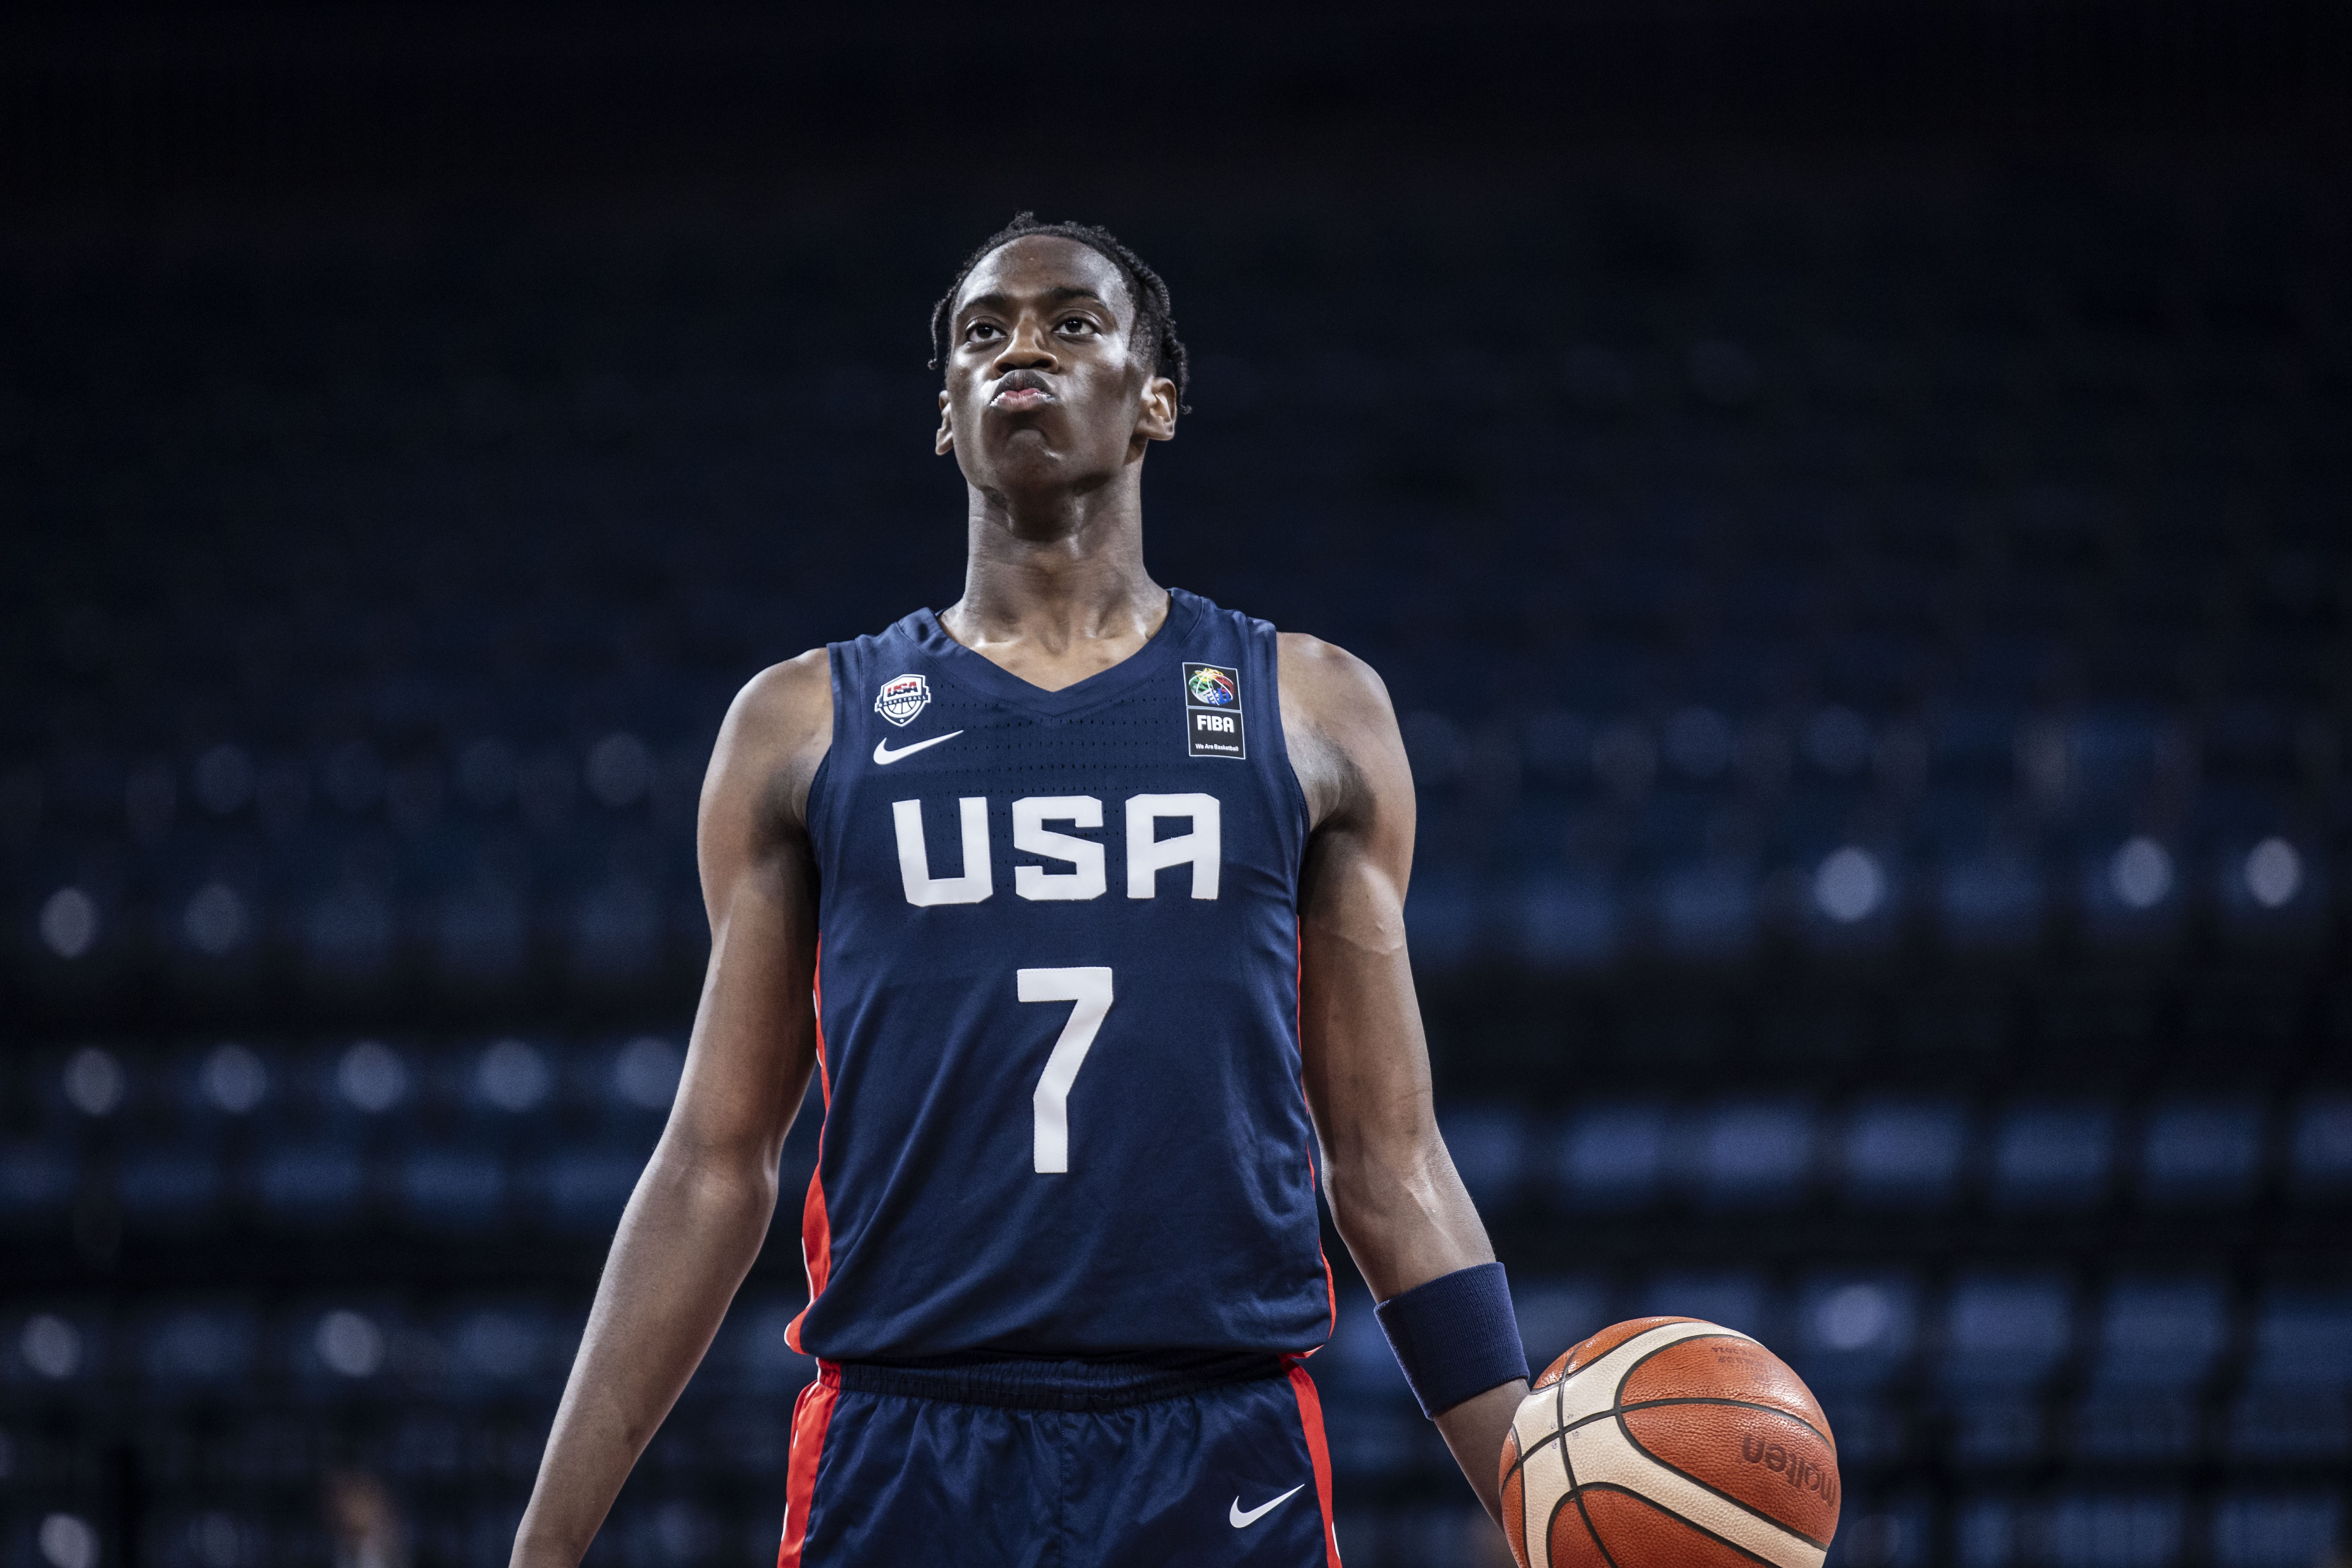ball: (1466, 1293, 1888, 1568)
